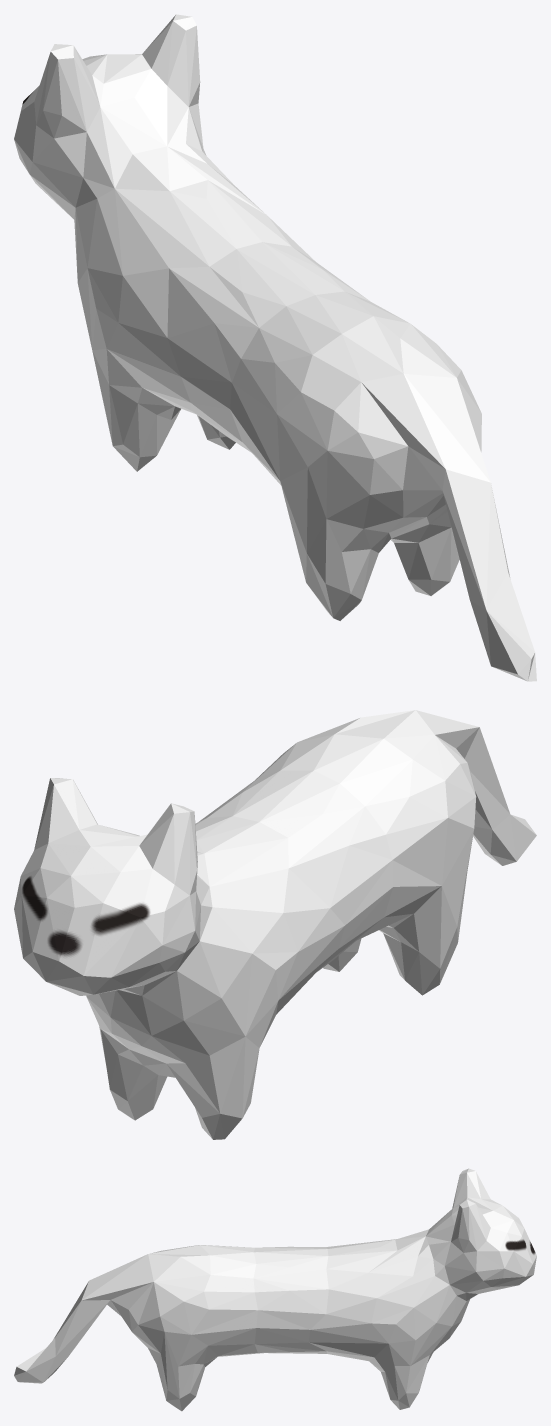
The model's file is animal_panther_blob.obj.
3 renders of one model, top to bottom at view 1: azimuth 30°, elevation 25°; view 2: azimuth 150°, elevation 25°; view 3: azimuth 270°, elevation 25°, orthographic. The views are drawn at different scales.
Parts seen in each view (by area): view 1: animal_panther_blob; view 2: animal_panther_blob; view 3: animal_panther_blob.
Boxes of the visible parts, x1,y1,x2,y2 form: animal_panther_blob: (14, 14, 536, 681); animal_panther_blob: (14, 710, 536, 1139); animal_panther_blob: (14, 1168, 536, 1411).
Bounding box in the file's own units: 0.3502 × 0.7026 × 1.57.
